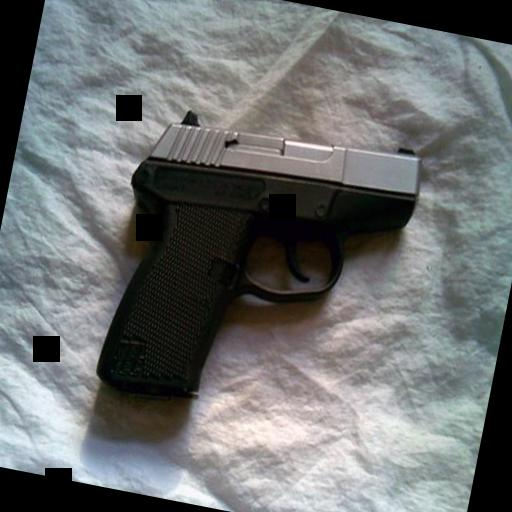Handgun: (90, 101, 426, 437)
